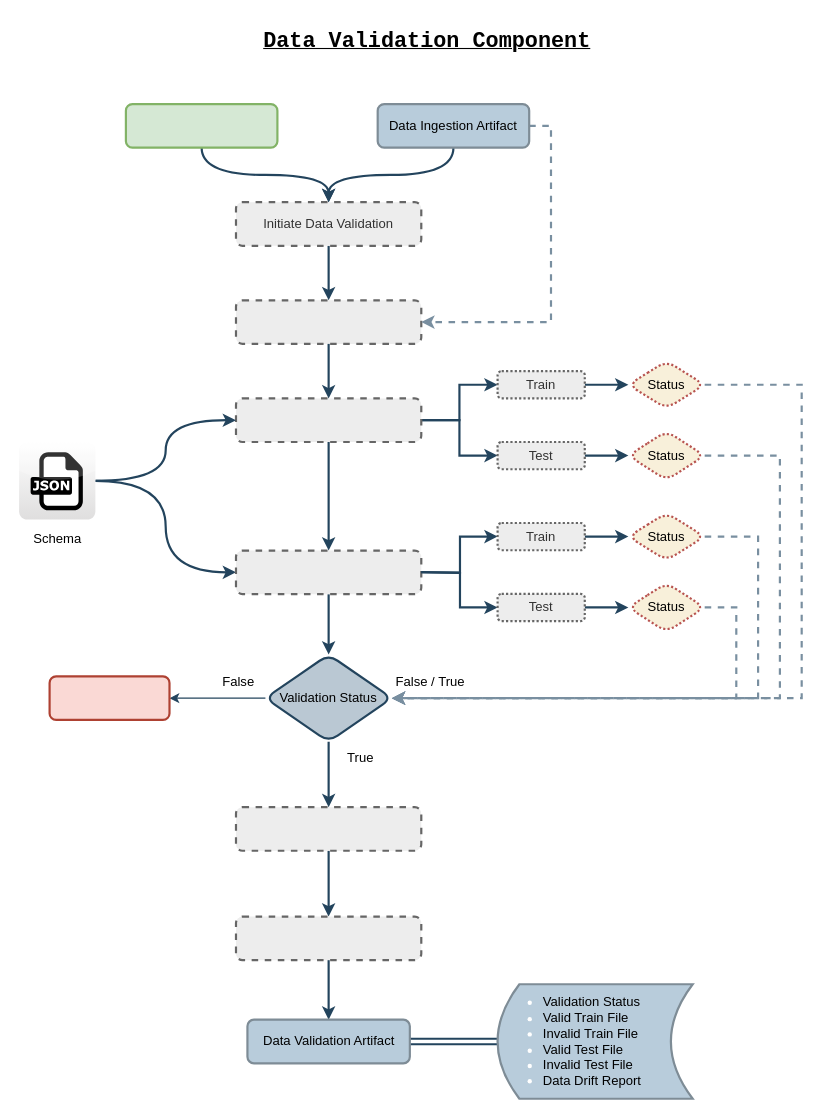
Image size: 831x1119. Some labels were removed from this diagram. The centre of each missing label's shape, as x and y in pixels:
Data Validation Config: the point at 201,125
Detect the Data Drift: the point at 328,938
Drop zero std dev features: the point at 328,828
Raise Validation Error: the point at 109,697
Read Train and Test Data: the point at 328,321
Validate the number of columns: the point at 328,420
Validate the number of missing columns: the point at 328,572
